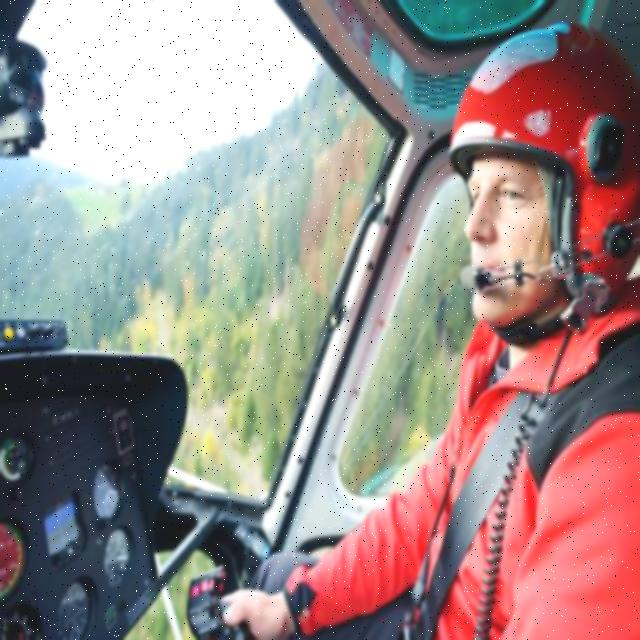with-helmet: (453, 14, 640, 337)
